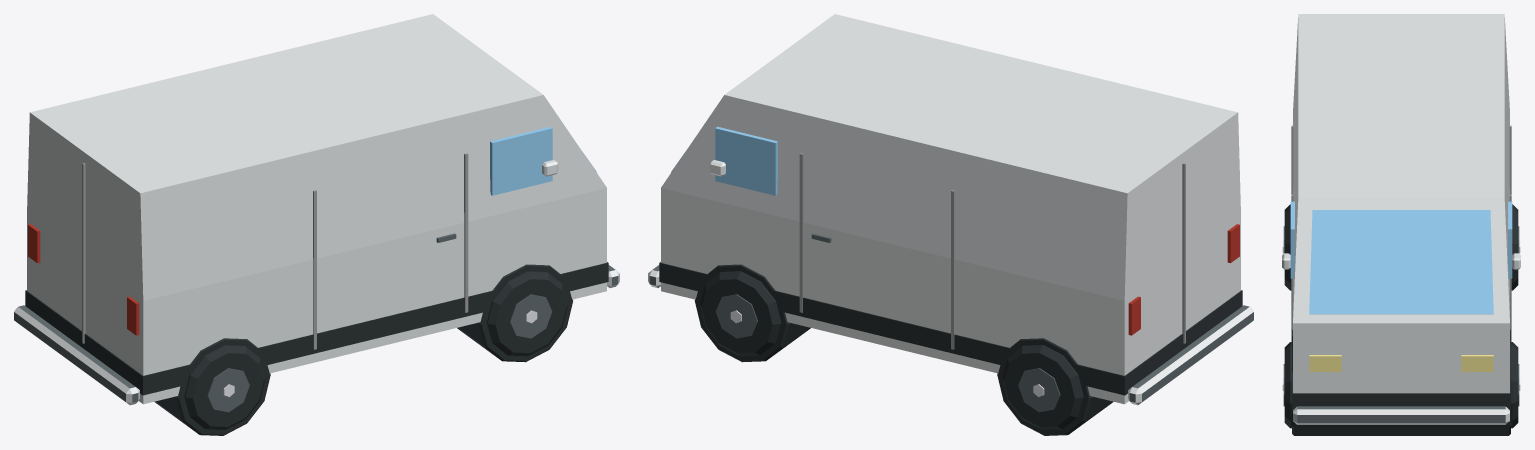
Rendered from van.glb.
3 renders of one model, left to right at view 1: azimuth 30°, elevation 25°; view 2: azimuth 150°, elevation 25°; view 3: azimuth 270°, elevation 25°, orthographic. The views are drawn at different scales.
Parts seen in each view (by area): view 1: van-m; view 2: van-m; view 3: van-m.
Part boxes in pixels (x1,y1,x2,y2): van-m: (14, 14, 619, 435); van-m: (648, 14, 1253, 435); van-m: (1282, 14, 1520, 435).
Bounding box in the file's own units: 4.9 × 2.47 × 2.2.
